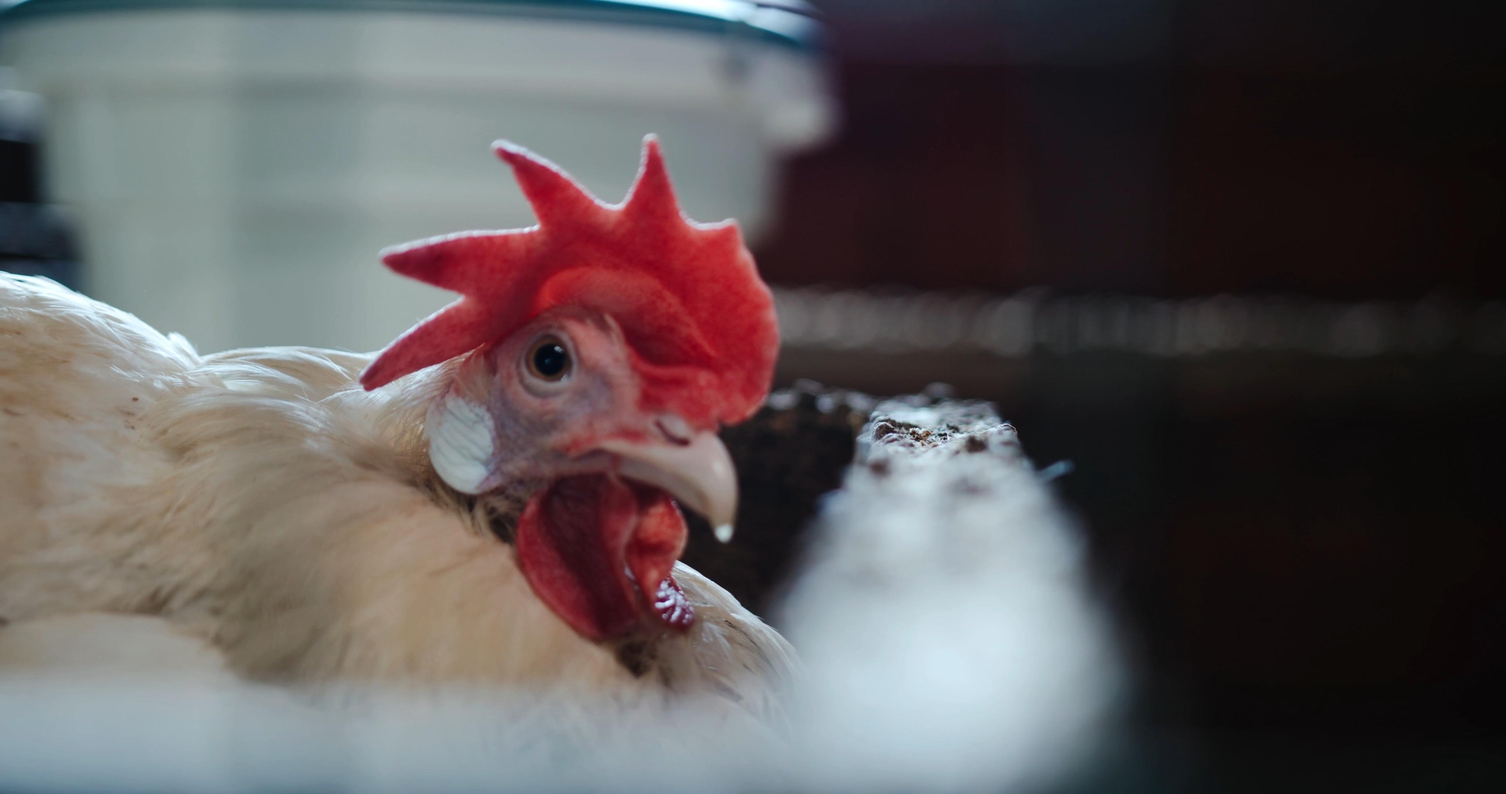Normal: (13, 144, 781, 684)
